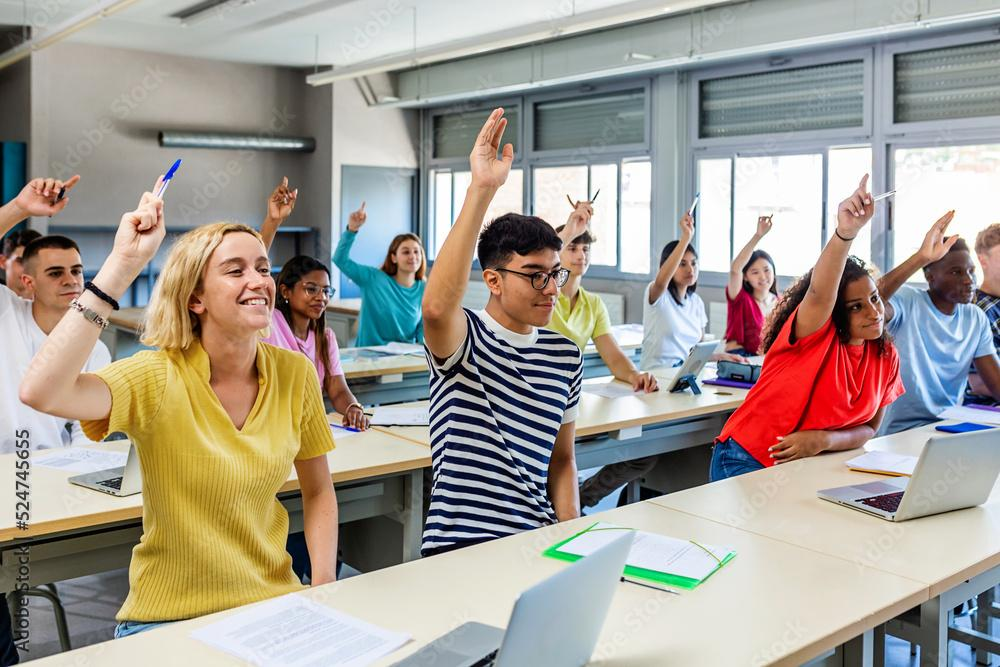study: (40, 167, 342, 596), (415, 112, 581, 540), (756, 170, 896, 450), (242, 176, 355, 436), (874, 210, 1000, 427), (0, 167, 97, 439), (342, 192, 430, 350), (640, 190, 710, 375), (730, 202, 775, 360)
